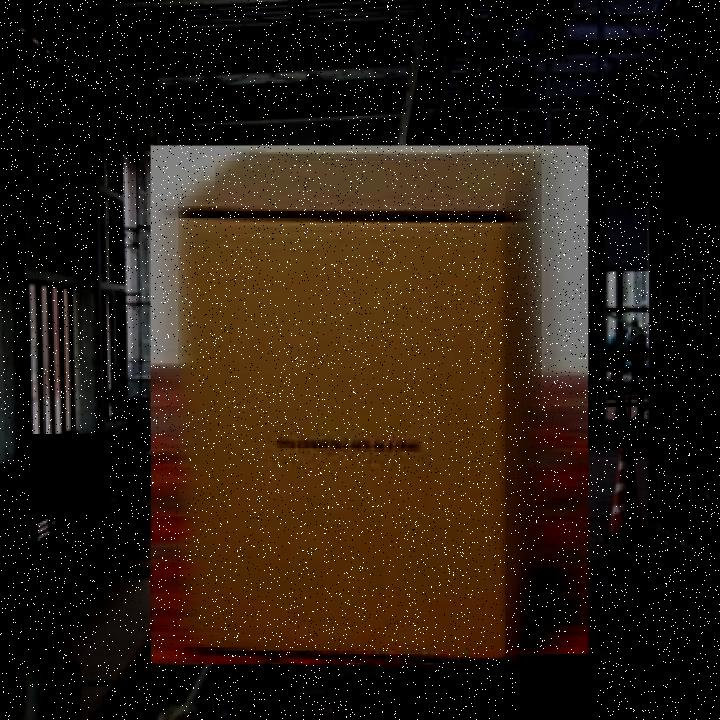box: (145, 138, 596, 674)
